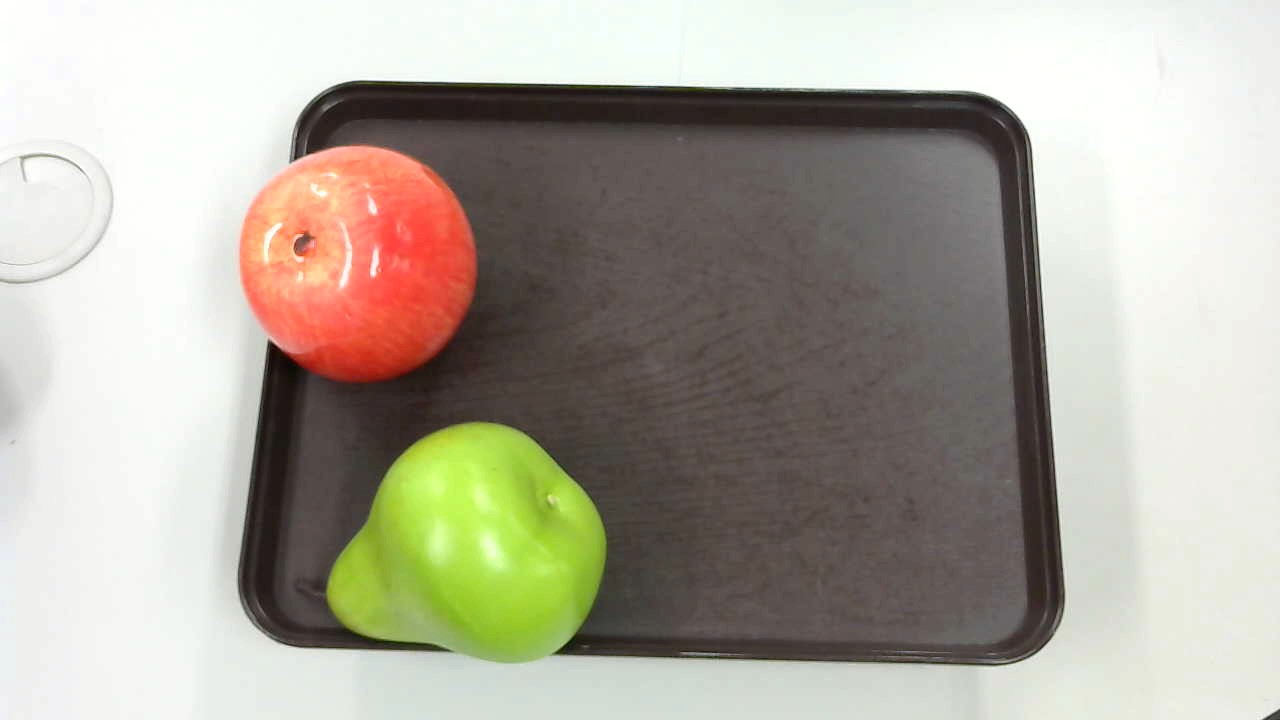green pear: (291, 417, 616, 673)
red apple: (238, 139, 480, 388)
